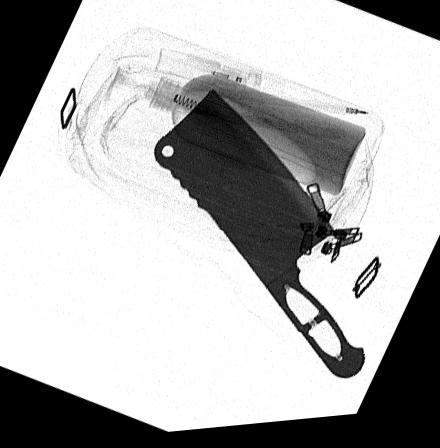Knife: (152, 91, 365, 385)
